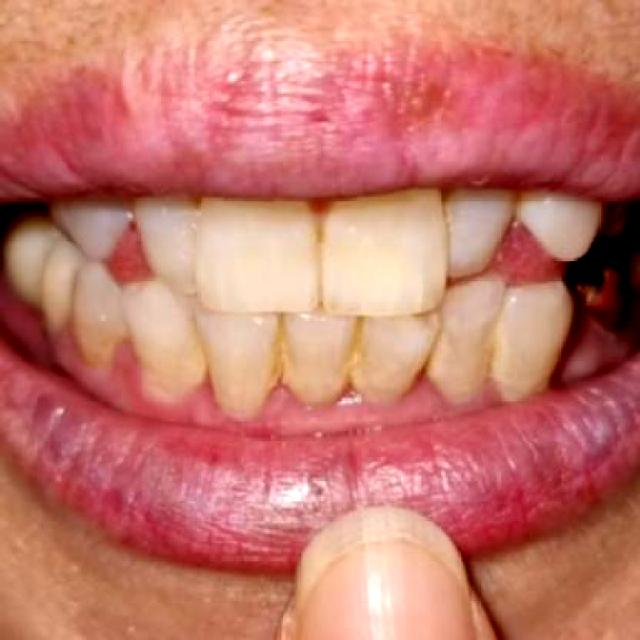Plaque: (75, 341, 444, 429), (447, 379, 503, 416), (310, 201, 339, 224)
